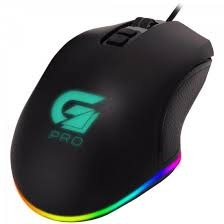mouse: (0, 16, 219, 224)
